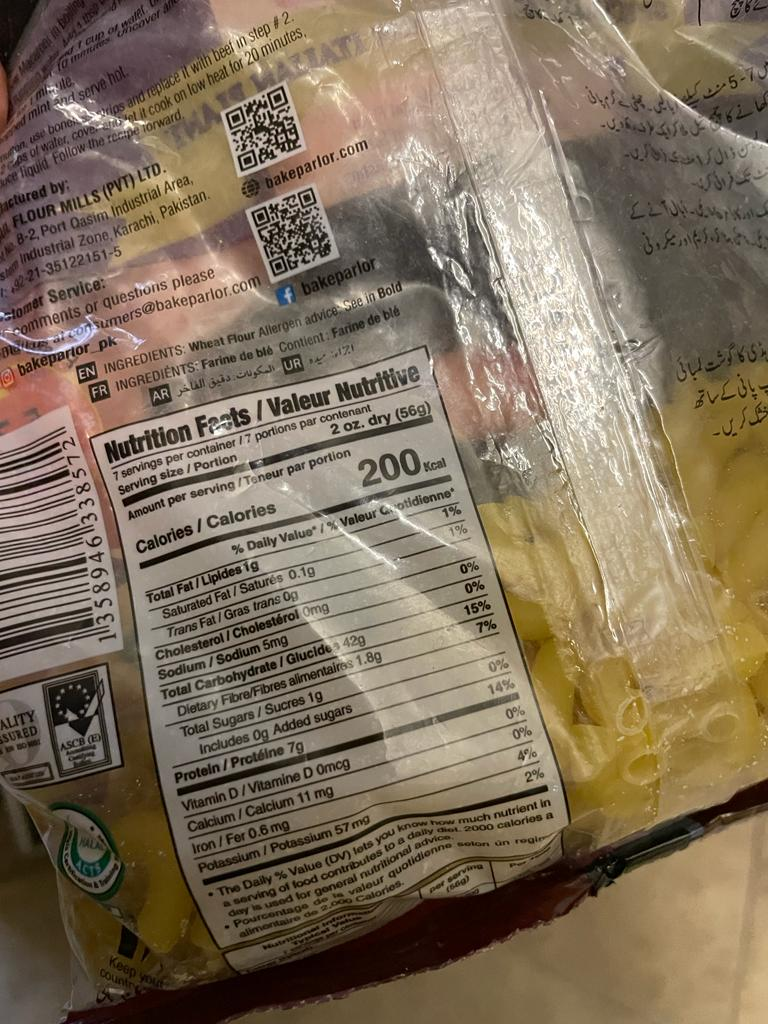table: (73, 368, 585, 964)
